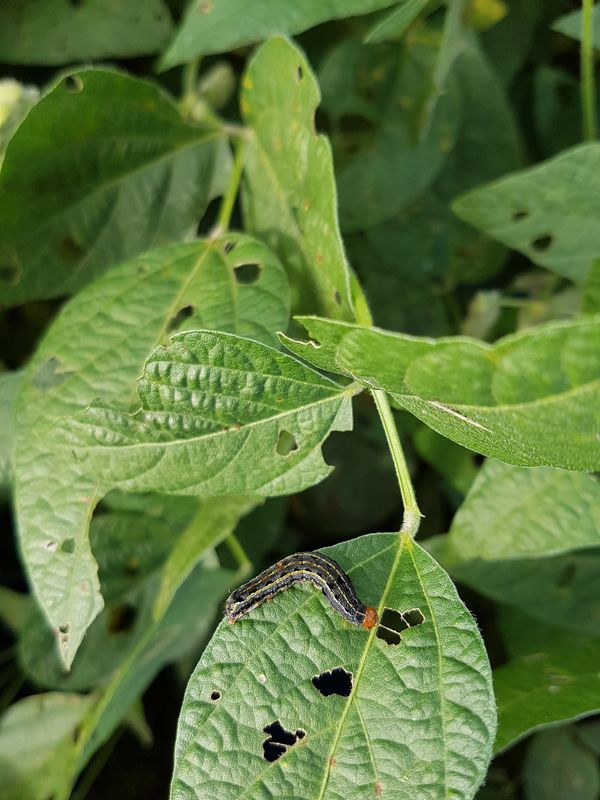Spodoptera_albula: (214, 542, 383, 650)
